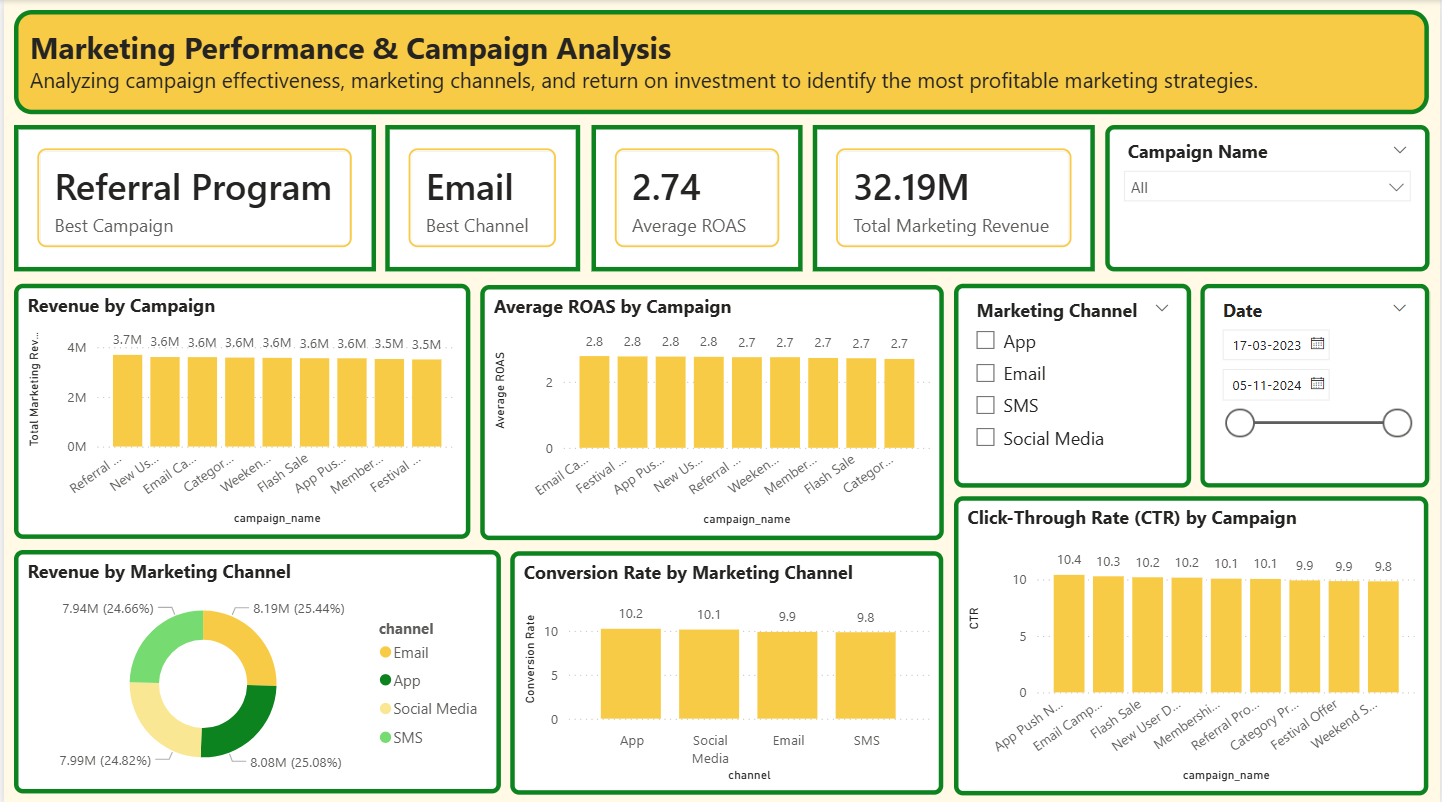

The page's visual inventory and layout, read from the dashboard file:
{"tool":"powerbi","page":{"name":"Marketing Performance & Campaign Analysis","canvas":[1280,720],"ordinal":4},"visuals":[{"type":"textbox","box":[8.8,8.8,1260,92.5],"z":0},{"type":"cardVisual","fields":{"Data":["blinkit_customer_feedback.Best Channel"]},"box":[339.6,111.5,173.5,130.1],"z":1000},{"type":"cardVisual","fields":{"Data":["blinkit_customer_feedback.Total Marketing Revenue"]},"box":[720.1,111.5,251.6,130.1],"z":2000},{"type":"cardVisual","fields":{"Data":["blinkit_customer_feedback.Best Campaign"]},"box":[8.7,111.5,322.2,130.1],"z":3000},{"type":"cardVisual","fields":{"Data":["blinkit_customer_feedback.Average ROAS"]},"box":[523,111.5,188.4,130.1],"z":4000},{"type":"clusteredColumnChart","title":"Revenue by Campaign","fields":{"Category":["blinkit_marketing_performance.campaign_name"],"Y":["blinkit_customer_feedback.Total Marketing Revenue"]},"box":[8.7,252.8,406.5,226.8],"z":5000},{"type":"donutChart","title":"Revenue by Marketing Channel","fields":{"Y":["blinkit_customer_feedback.Total Marketing Revenue"],"Category":["blinkit_marketing_performance.channel"]},"box":[8.7,489.5,433.8,216.9],"z":6000},{"type":"clusteredColumnChart","title":"Average ROAS by Campaign","fields":{"Category":["blinkit_marketing_performance.campaign_name"],"Y":["blinkit_customer_feedback.Average ROAS"]},"box":[423.9,254.1,412.7,226.8],"z":7000},{"type":"clusteredColumnChart","title":"Conversion Rate by Marketing Channel","fields":{"Category":["blinkit_marketing_performance.channel"],"Y":["blinkit_customer_feedback.Conversion Rate"]},"box":[451.1,490.8,385.4,216.9],"z":8000},{"type":"clusteredColumnChart","title":"Click-Through Rate (CTR) by Campaign","fields":{"Category":["blinkit_marketing_performance.campaign_name"],"Y":["blinkit_customer_feedback.CTR"]},"box":[846.5,442.4,422.6,266.5],"z":9000},{"type":"slicer","fields":{"Values":["blinkit_marketing_performance.campaign_name"]},"box":[980.3,111.5,288.8,130.1],"z":10000},{"type":"slicer","fields":{"Values":["blinkit_marketing_performance.channel"]},"box":[846,252.7,211.5,181.4],"z":11000},{"type":"slicer","fields":{"Values":["blinkit_marketing_performance.date"]},"box":[1065.3,252.7,203.7,181.4],"z":12000}]}

Visuals, with their boxes in screenshot pixels (x1, y1, x2, y2), scaled from the page's 1280x720 canvas onto the 1442x802 screenshot:
textbox: BBox(10, 10, 1429, 113)
cardVisual - blinkit_customer_feedback.Best Channel: BBox(383, 124, 578, 269)
cardVisual - blinkit_customer_feedback.Total Marketing Revenue: BBox(811, 124, 1095, 269)
cardVisual - blinkit_customer_feedback.Best Campaign: BBox(10, 124, 373, 269)
cardVisual - blinkit_customer_feedback.Average ROAS: BBox(589, 124, 801, 269)
"Revenue by Campaign" clusteredColumnChart: BBox(10, 282, 468, 534)
"Revenue by Marketing Channel" donutChart: BBox(10, 545, 499, 787)
"Average ROAS by Campaign" clusteredColumnChart: BBox(478, 283, 942, 536)
"Conversion Rate by Marketing Channel" clusteredColumnChart: BBox(508, 547, 942, 788)
"Click-Through Rate (CTR) by Campaign" clusteredColumnChart: BBox(954, 493, 1430, 790)
slicer - blinkit_marketing_performance.campaign_name: BBox(1104, 124, 1430, 269)
slicer - blinkit_marketing_performance.channel: BBox(953, 281, 1191, 484)
slicer - blinkit_marketing_performance.date: BBox(1200, 281, 1430, 484)
